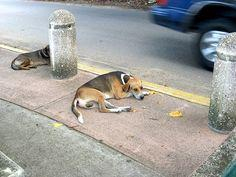normal_dogs: (70, 62, 150, 128), (6, 44, 58, 72)
